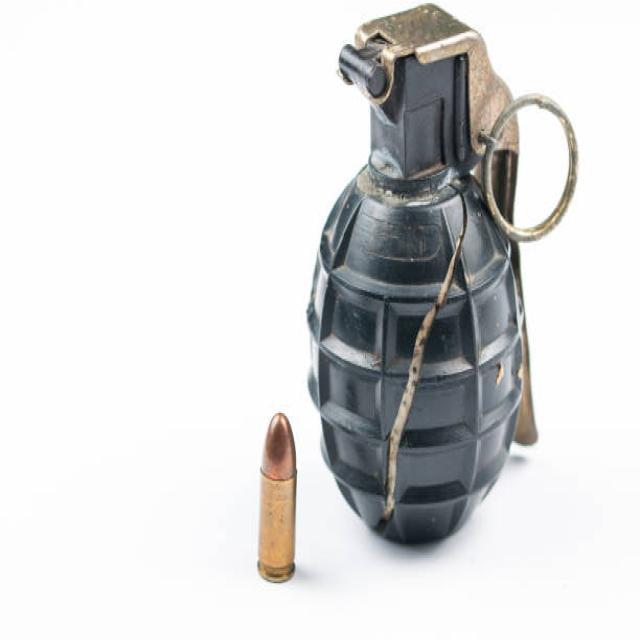grenade: (301, 1, 583, 556)
